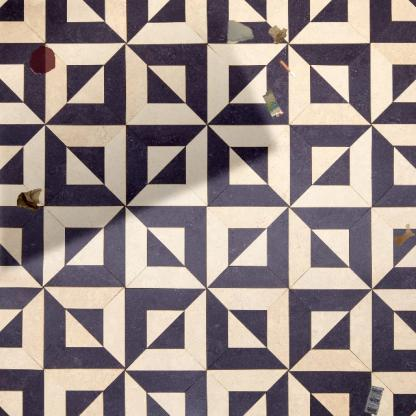dirty: (260, 86, 285, 121), (225, 18, 254, 44), (364, 384, 384, 416), (16, 186, 42, 210), (266, 23, 289, 46), (278, 58, 296, 80)
liquid: (29, 44, 57, 75), (394, 223, 416, 246)
